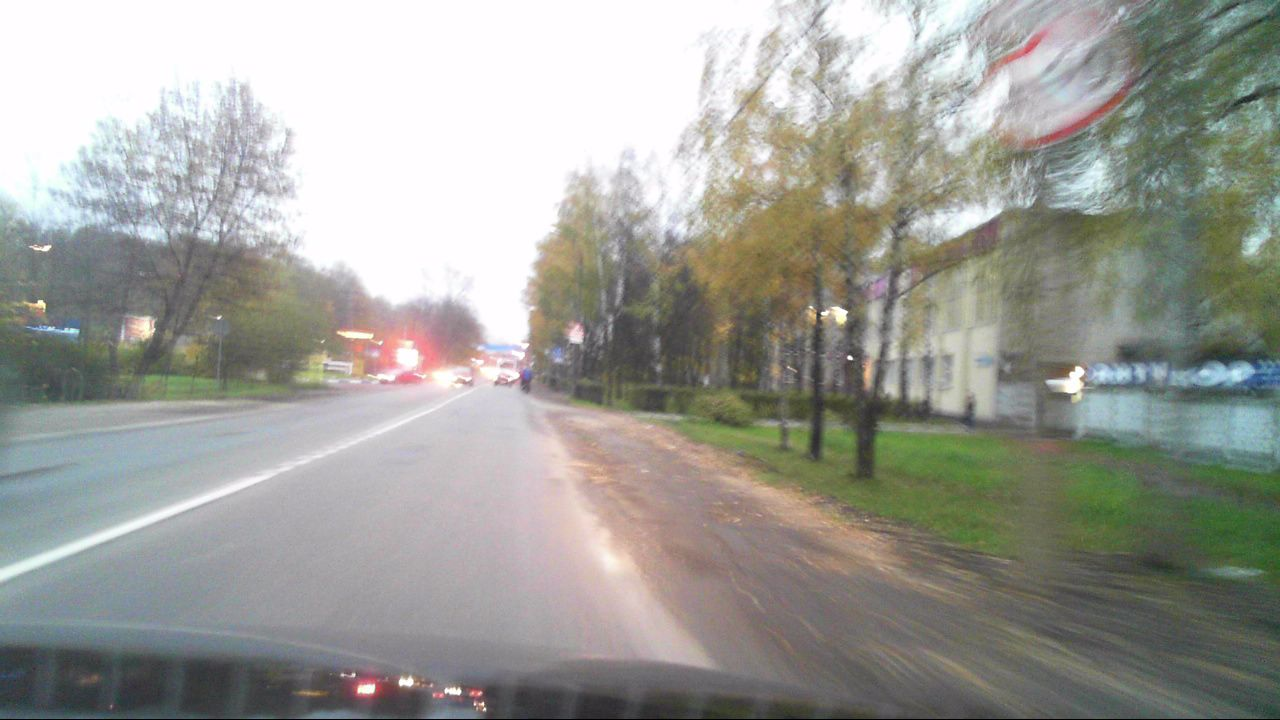speed_warning_40: (1025, 12, 1141, 123)
